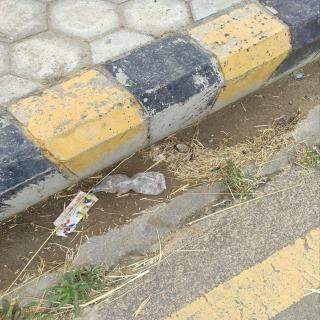Plastic-bottle: (90, 171, 169, 201)
